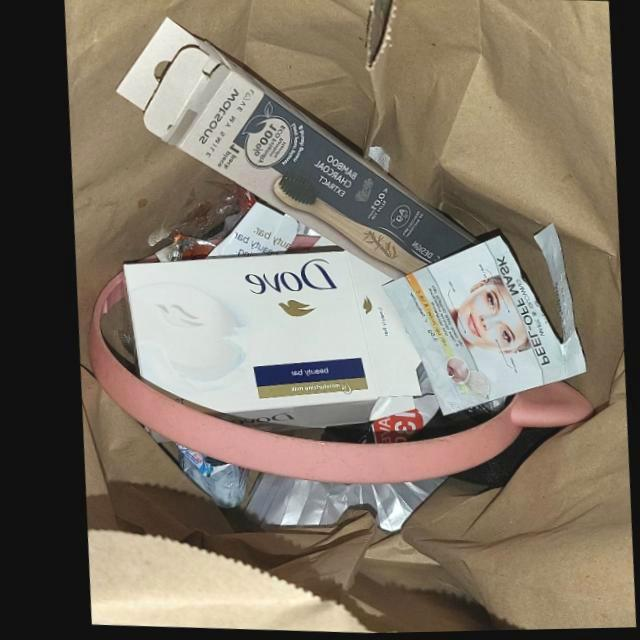aluminum: (232, 474, 439, 533)
cardboard: (114, 20, 472, 282), (118, 250, 416, 430)
paper: (196, 203, 296, 260)
plastic_sachet: (376, 226, 579, 418)
